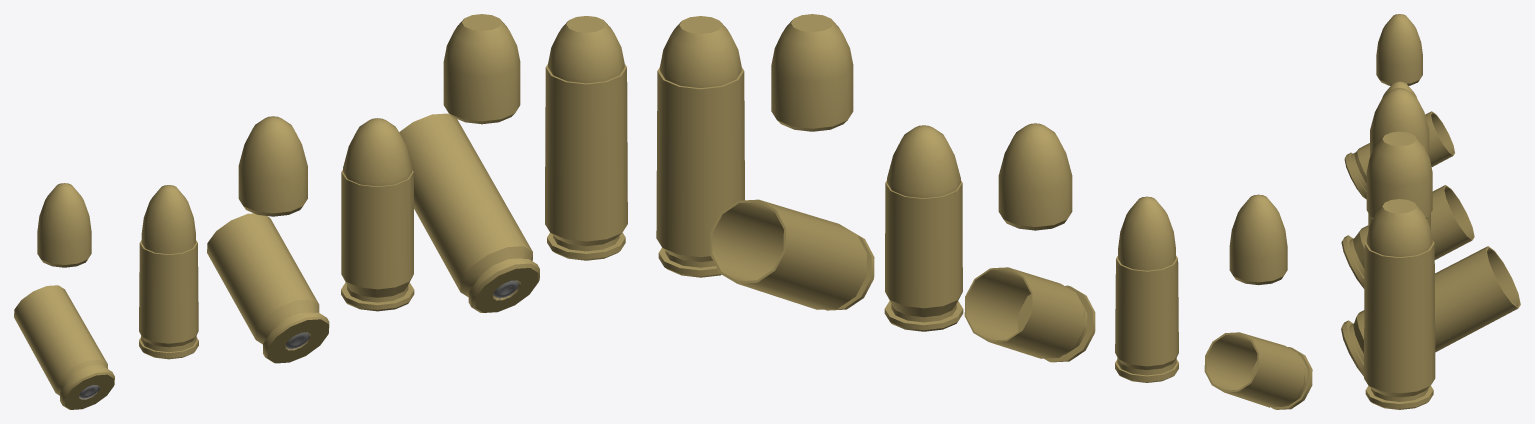
File: Bullets.fbx
The picture shows the model from 3 angles, left to right: view 1: azimuth 30°, elevation 25°; view 2: azimuth 150°, elevation 25°; view 3: azimuth 270°, elevation 25°; orthographic projection. The views are drawn at different scales.
Visible parts, largest first — view 1: Cal50Cartridge, Cal50Brass, Cal45Cartridge, Cal45Brass, Cal9Cartridge, Cal50Bullet, Cal9Brass, Cal45Bullet, Cal9Bullet; view 2: Cal50Cartridge, Cal45Cartridge, Cal50Brass, Cal9Cartridge, Cal45Brass, Cal50Bullet, Cal45Bullet, Cal9Brass, Cal9Bullet; view 3: Cal50Cartridge, Cal50Brass, Cal50Bullet, Cal45Brass, Cal9Bullet, Cal45Bullet, Cal9Brass, Cal9Cartridge.
Boxes of the visible parts, x1,y1,x2,y2 form: Cal50Cartridge: (545, 16, 627, 260); Cal50Brass: (399, 113, 539, 312); Cal45Cartridge: (341, 118, 414, 311); Cal45Brass: (207, 213, 329, 363); Cal9Cartridge: (139, 185, 198, 359); Cal50Bullet: (443, 14, 520, 124); Cal9Brass: (14, 285, 114, 409); Cal45Bullet: (238, 116, 307, 216); Cal9Bullet: (37, 183, 91, 267); Cal50Cartridge: (656, 16, 744, 277); Cal45Cartridge: (884, 125, 963, 331); Cal50Brass: (710, 199, 874, 310); Cal9Cartridge: (1115, 196, 1178, 382); Cal45Brass: (964, 267, 1095, 362); Cal50Bullet: (771, 14, 853, 131); Cal45Bullet: (998, 123, 1072, 230); Cal9Brass: (1204, 332, 1312, 409); Cal9Bullet: (1229, 194, 1287, 285); Cal50Cartridge: (1364, 199, 1435, 409); Cal50Brass: (1341, 246, 1520, 376); Cal50Bullet: (1366, 131, 1432, 218); Cal45Brass: (1341, 185, 1474, 288); Cal9Bullet: (1376, 14, 1422, 85); Cal45Bullet: (1370, 88, 1429, 156); Cal9Brass: (1344, 111, 1454, 199); Cal9Cartridge: (1382, 81, 1416, 97).
Size of the model in its own units: 0.1119 by 0.0511 by 0.0346.
5 materials, 3 textured.
